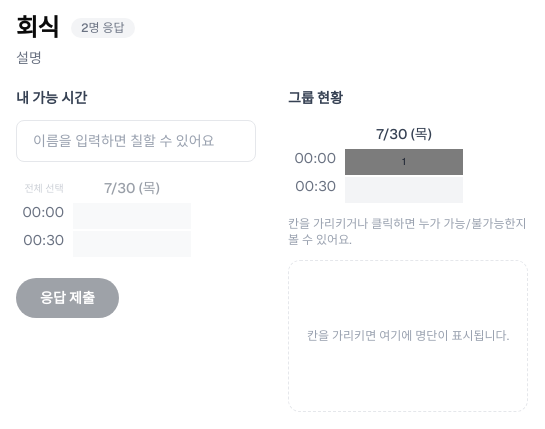
it: PollView (slot detail) › shows available and unavailable names when a heatmap cell is clicked
Click the text "1" at (404, 162), box [344,148,464,176]
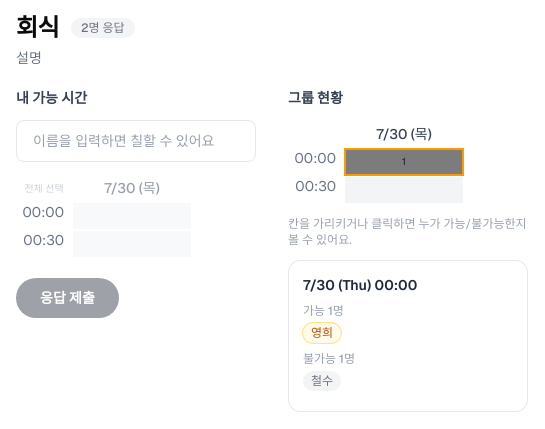
Expected: the text "가능 1명" is shown, [303,303,344,319]
Expected: the text "불가능 1명" is shown, [303,351,355,367]
Expected: the text "영희" is shown, [303,323,341,343]
